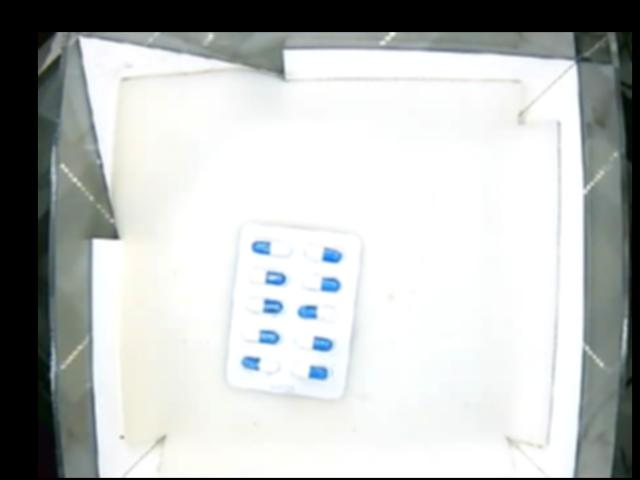Medicine: (226, 220, 362, 399)
